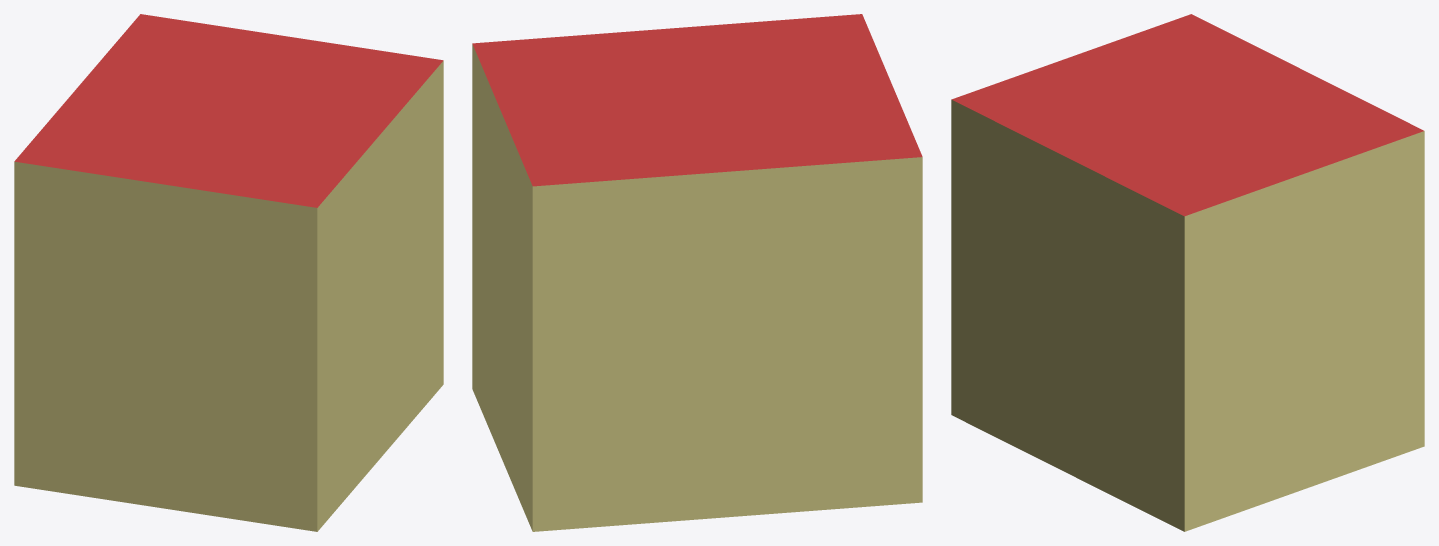
3 views of the same model, side by side, from view 1: azimuth 30°, elevation 25°; view 2: azimuth 150°, elevation 25°; view 3: azimuth 270°, elevation 25° (orthographic). The views are drawn at different scales.
Visible parts, largest first — view 1: group_4, group_3; view 2: group_4, group_3; view 3: group_4, group_3.
Boxes of the visible parts, bbox=[...] form: group_4: bbox=[14, 61, 443, 531]; group_3: bbox=[14, 14, 443, 207]; group_4: bbox=[472, 44, 922, 531]; group_3: bbox=[472, 14, 922, 186]; group_4: bbox=[951, 99, 1424, 531]; group_3: bbox=[951, 14, 1423, 216].
Bounding box in the file's own units: 10.75 × 10.62 × 7.82.
